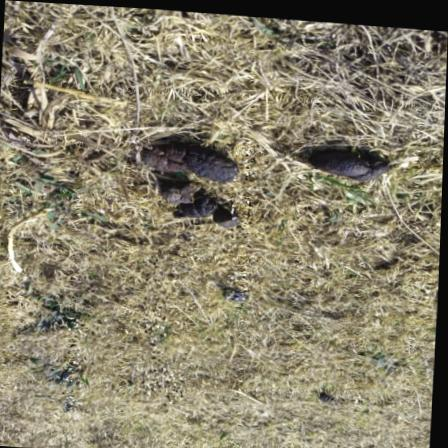dog-poop: (130, 127, 249, 232), (301, 129, 394, 195)
